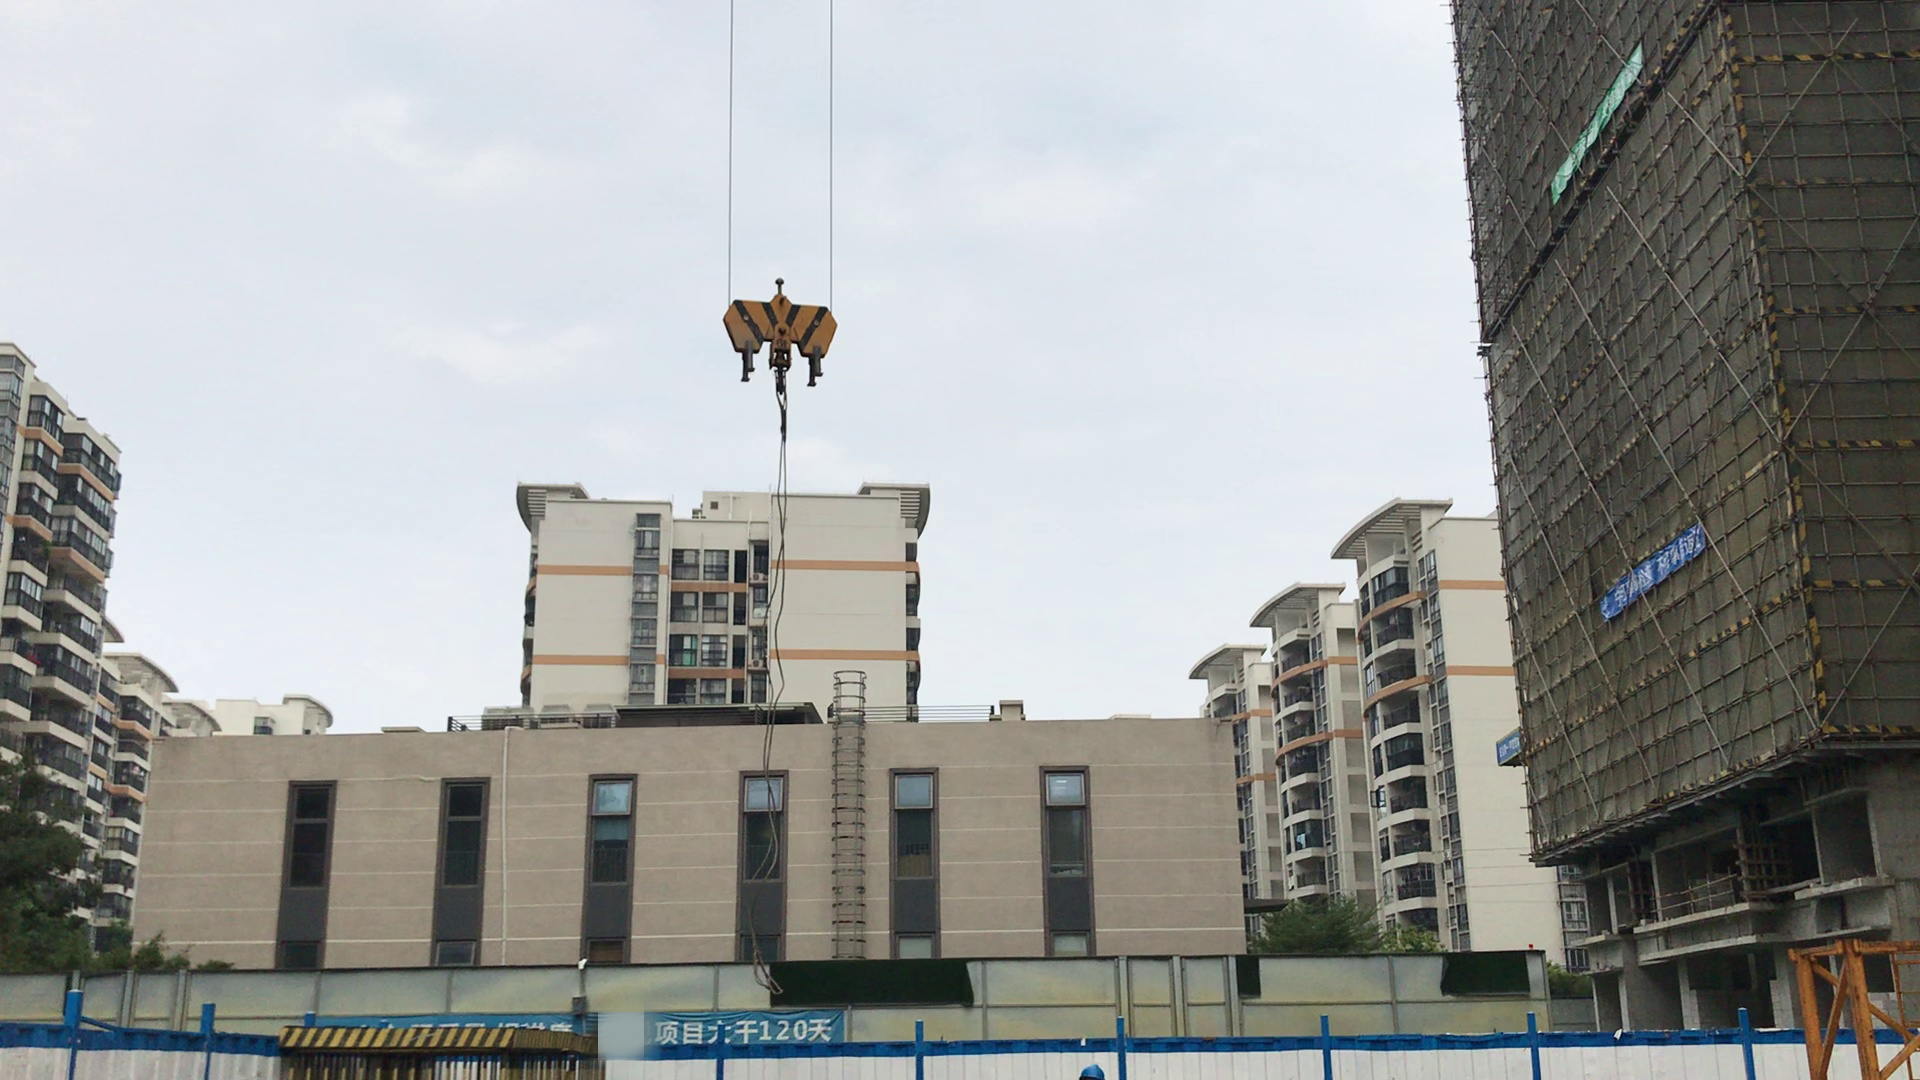hook: (719, 293, 840, 392)
slogan: (1552, 47, 1644, 210), (426, 1011, 843, 1044), (1604, 521, 1706, 632)
